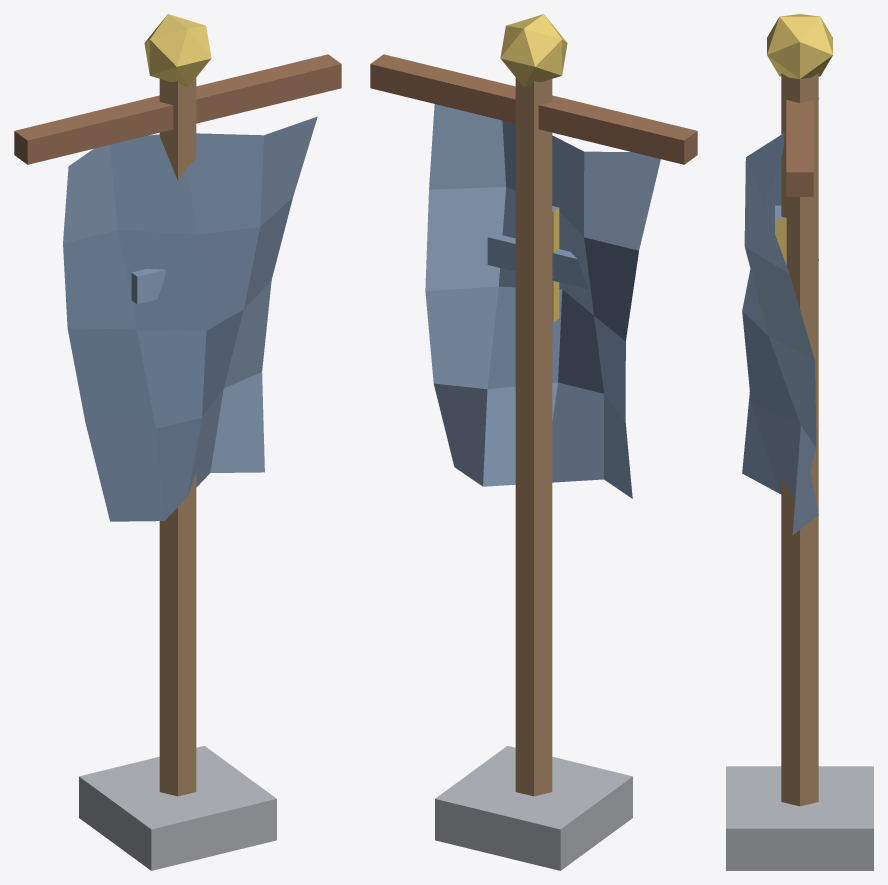
File: animprop_banner_04.glb
The picture shows the model from 3 angles, left to right: view 1: azimuth 30°, elevation 25°; view 2: azimuth 150°, elevation 25°; view 3: azimuth 270°, elevation 25°; orthographic projection.
Parts seen in each view (by area): view 1: animprop; view 2: animprop; view 3: animprop.
Boxes of the visible parts, x1,y1,x2,y2 form: animprop: (14, 14, 341, 870); animprop: (370, 14, 697, 870); animprop: (726, 14, 873, 870).
Bounding box in the file's own units: 0.95 × 2.34 × 0.38.
